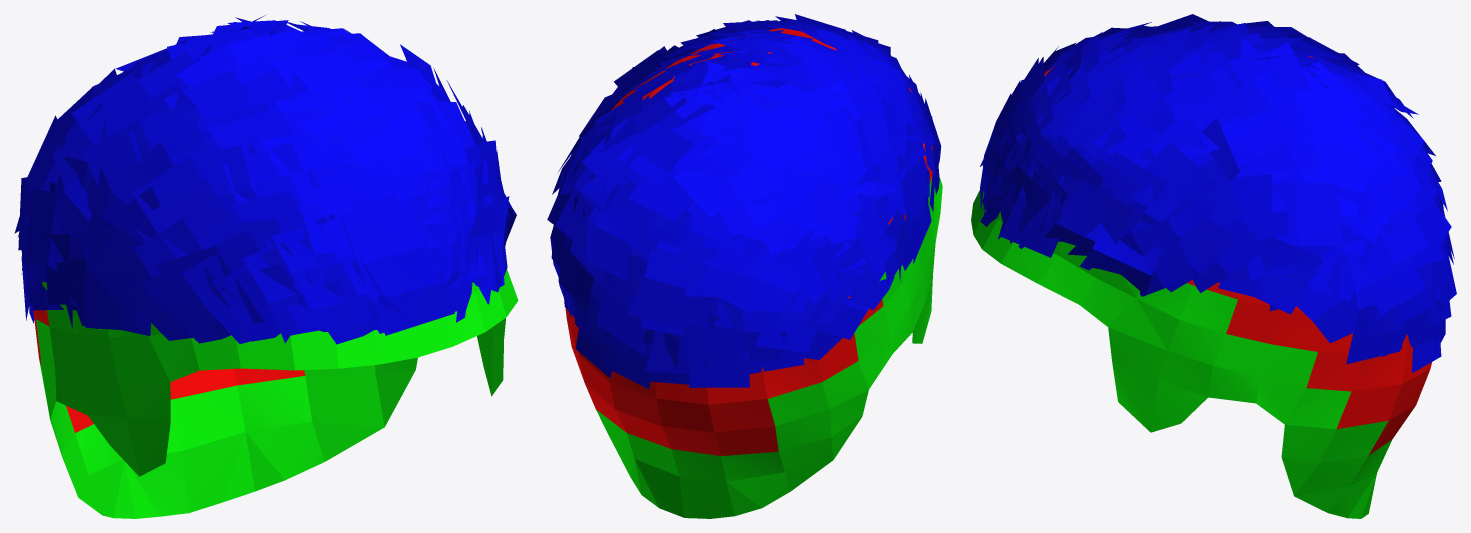
File: hair_003.obj
The picture shows the model from 3 angles, left to right: view 1: azimuth 30°, elevation 25°; view 2: azimuth 150°, elevation 25°; view 3: azimuth 270°, elevation 25°; orthographic projection. The views are drawn at different scales.
Bounding box in the file's own units: 16.73 × 21 × 19.93.
